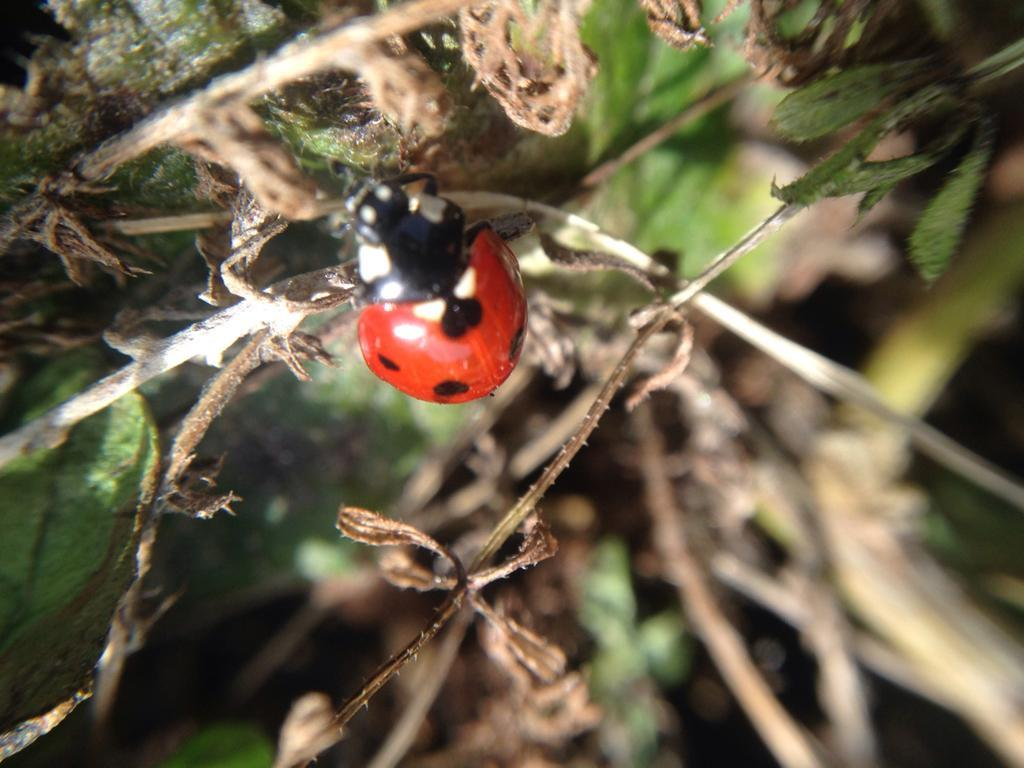ladybug: (329, 161, 537, 411)
